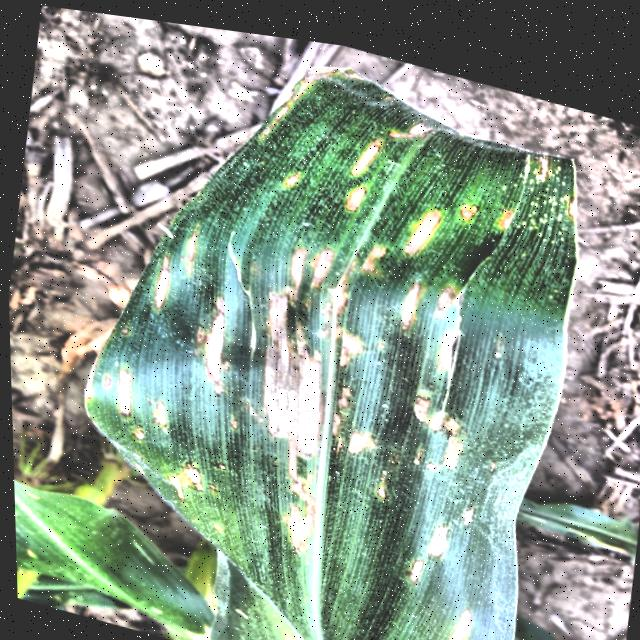blight: (96, 33, 578, 640)
